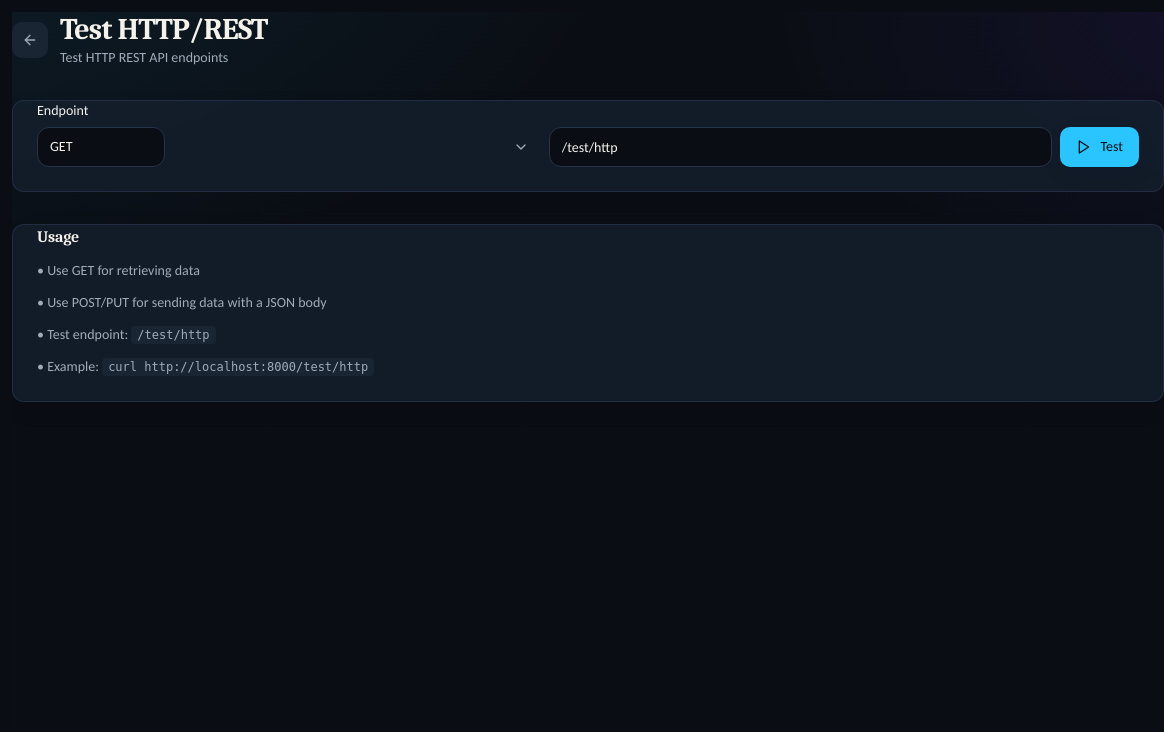
it: ProtocolTest page › http › GET shows the response and copies it
Click the button "Test" at (1100, 147), box x1=1060 y1=127 x2=1139 y2=167
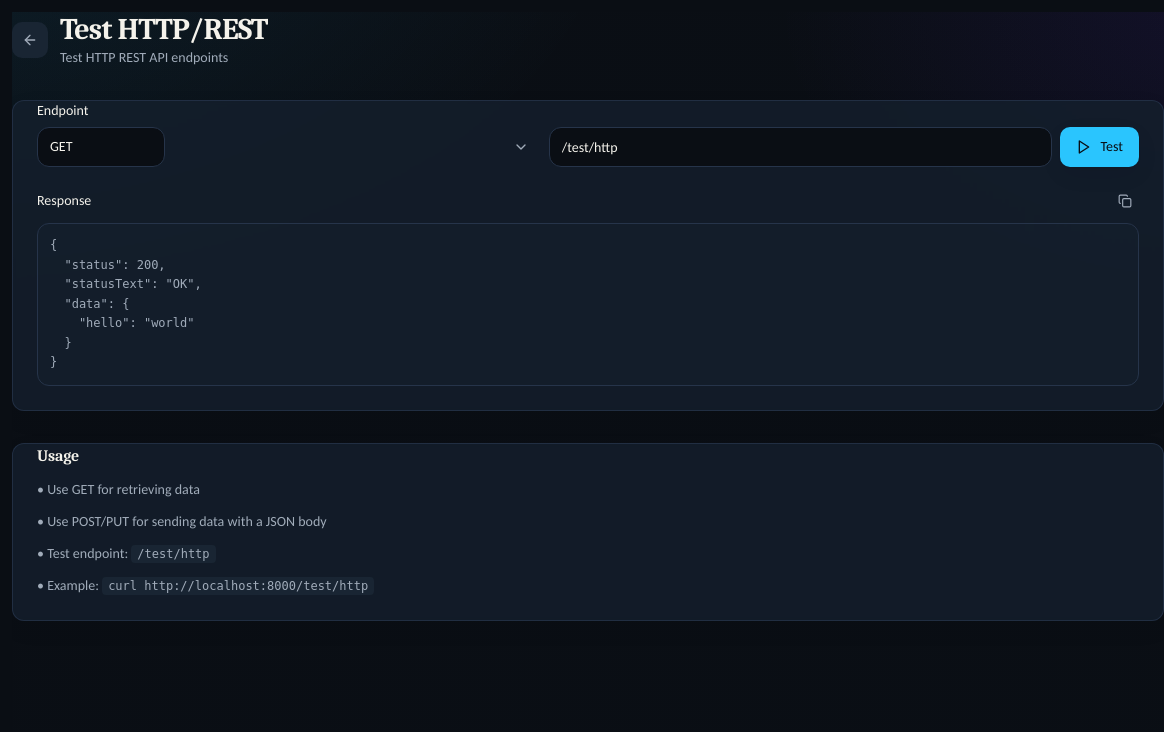
Expected: the text "\"hello\": \"world\"" is shown, x1=50 y1=238 x2=202 y2=369
Click the button named "Copy response" at (1125, 201), box x1=1111 y1=187 x2=1139 y2=215
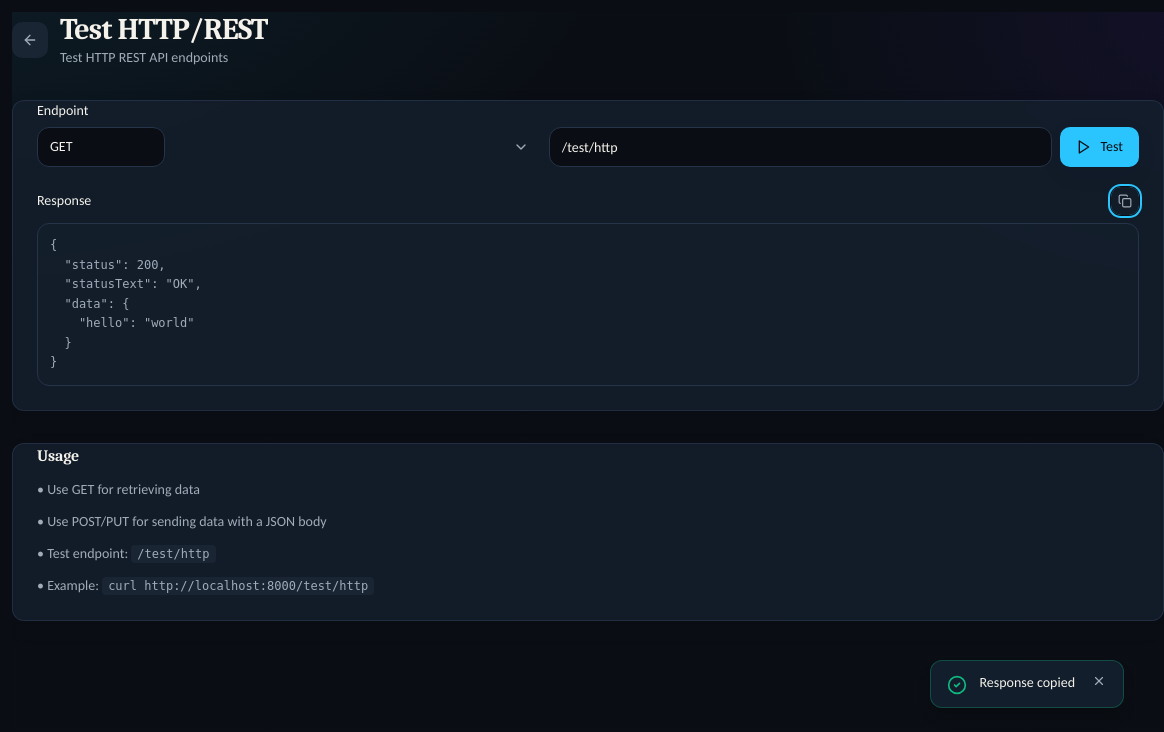
Expected: the text "Response copied" is shown, x1=979 y1=673 x2=1075 y2=693
